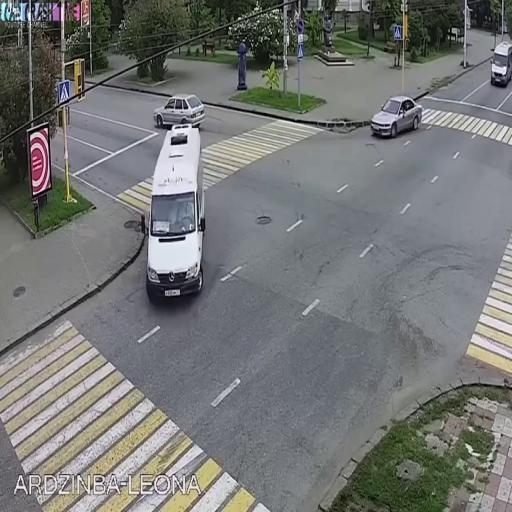小汽车: (147, 126, 202, 299), (372, 96, 424, 135), (158, 96, 206, 129), (489, 42, 512, 82)
